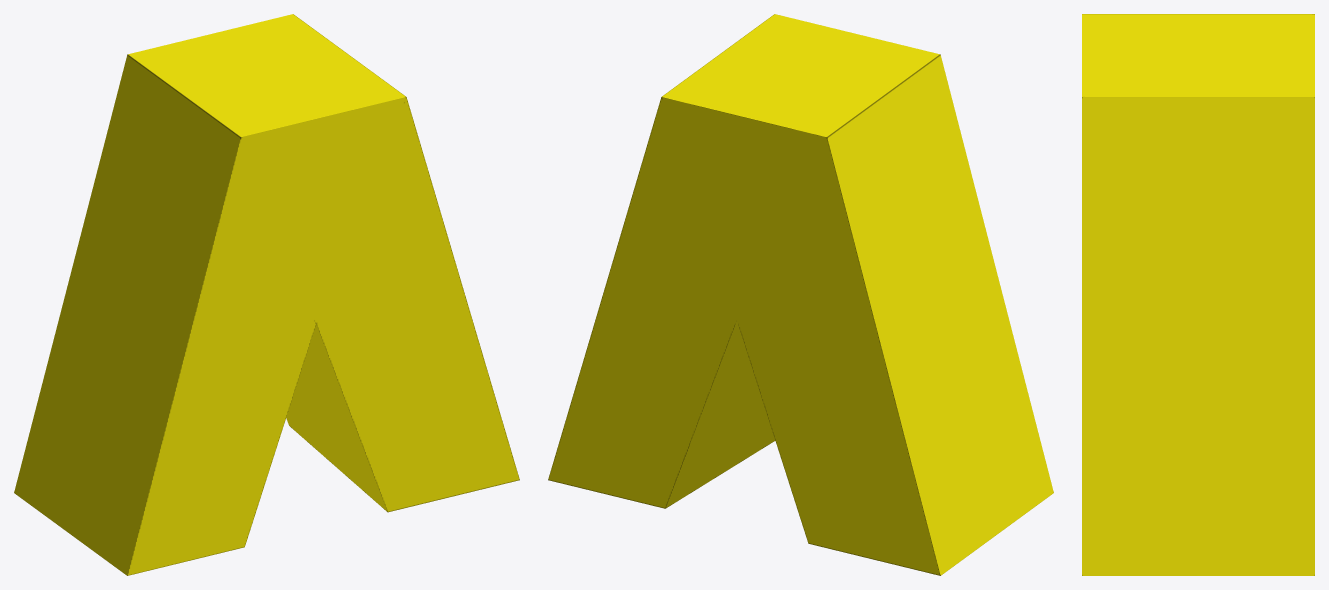
The model's file is pants.fbx.
3 renders of one model, left to right at view 1: azimuth 30°, elevation 25°; view 2: azimuth 150°, elevation 25°; view 3: azimuth 270°, elevation 25°, orthographic. The views are drawn at different scales.
Parts seen in each view (by area): view 1: Pants; view 2: Pants; view 3: Pants.
Part boxes in pixels (<box>): Pants: <box>14,14,519,575</box>; Pants: <box>548,14,1053,575</box>; Pants: <box>1082,14,1314,575</box>.
Bounding box in the file's own units: 400 × 400 × 200.
